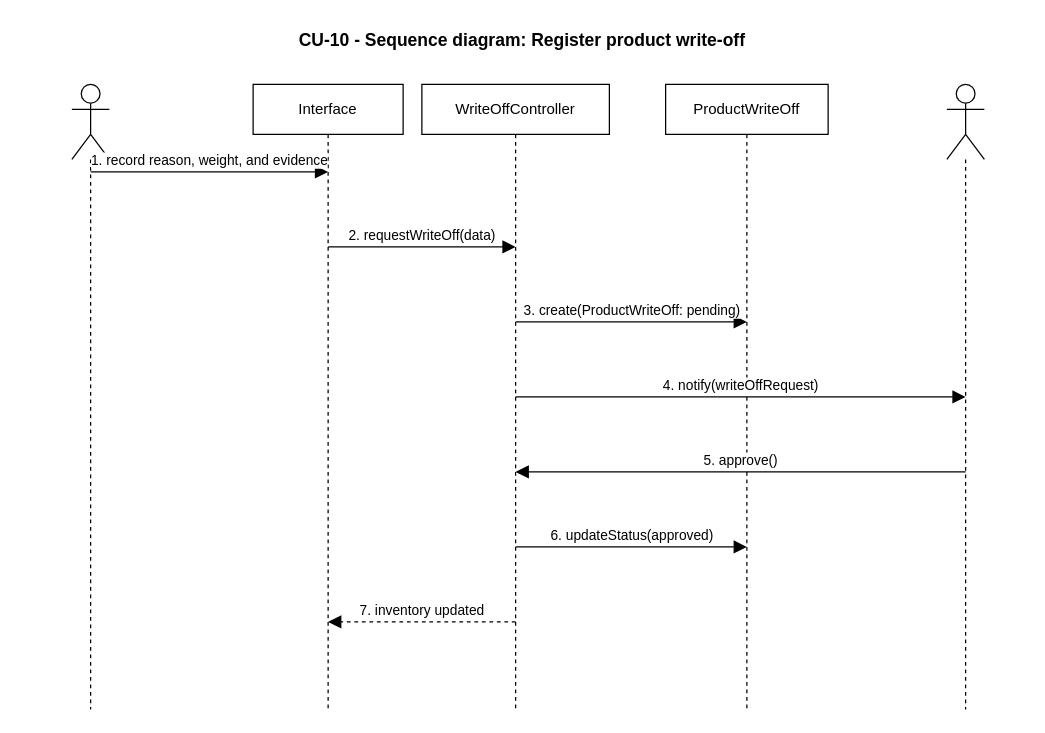
Some shapes in this 1045 by 733 pixel diagram are drawn without their labels. Each missing label, with the box of its shape:
General manager: (946, 83, 984, 159)
Warehouse staff: (71, 83, 109, 159)
